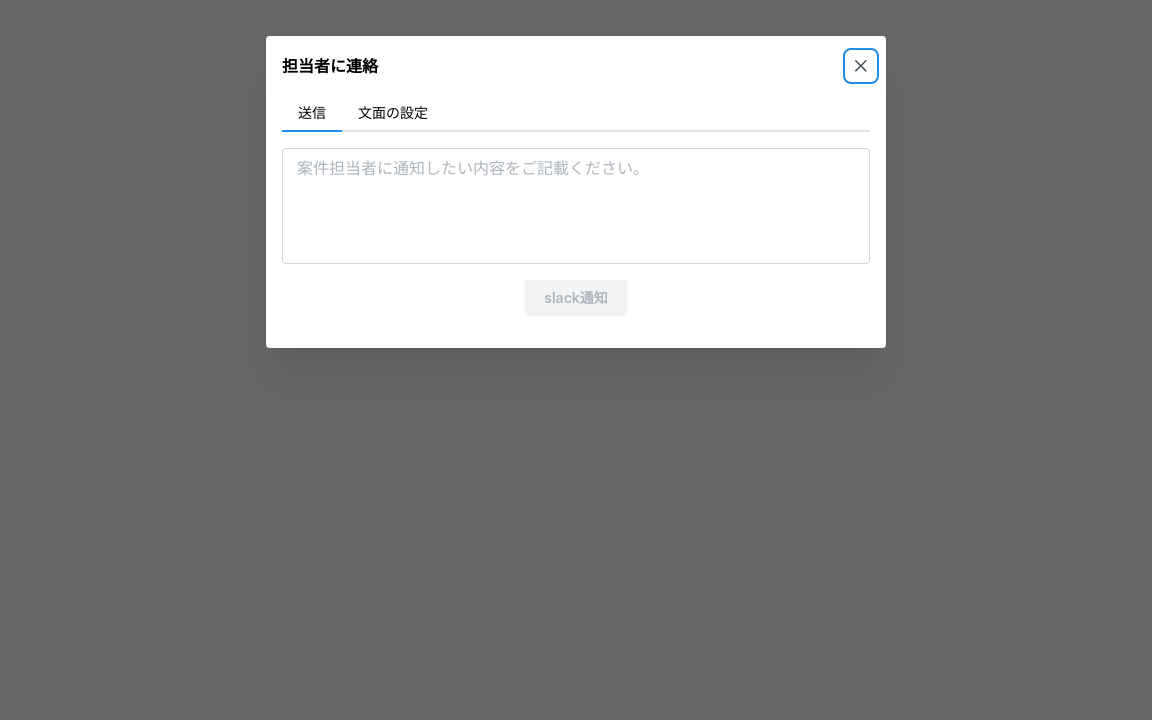
NotificationMessage（担当者に連絡モーダル） › 案件を選択していなくても文面の設定タブは使える（送信先が 0 件でもタブ切り替え・保存できる）
The width and height of the screenshot is (1152, 720).
Click the tab "文面の設定" at [393, 114], box [342, 96, 444, 132]
(page scrolled)
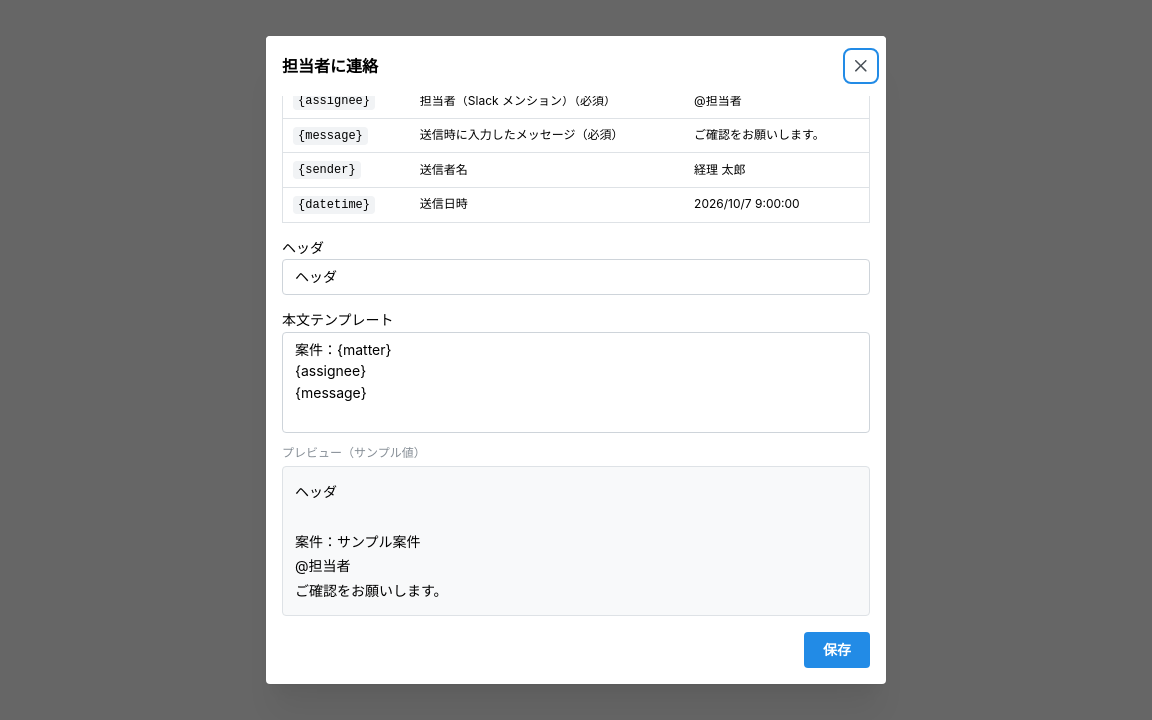
Expected: the text box showing "ヘッダ" is shown, [282, 259, 870, 295]
Expected: the button "保存" is enabled, [804, 632, 870, 668]
